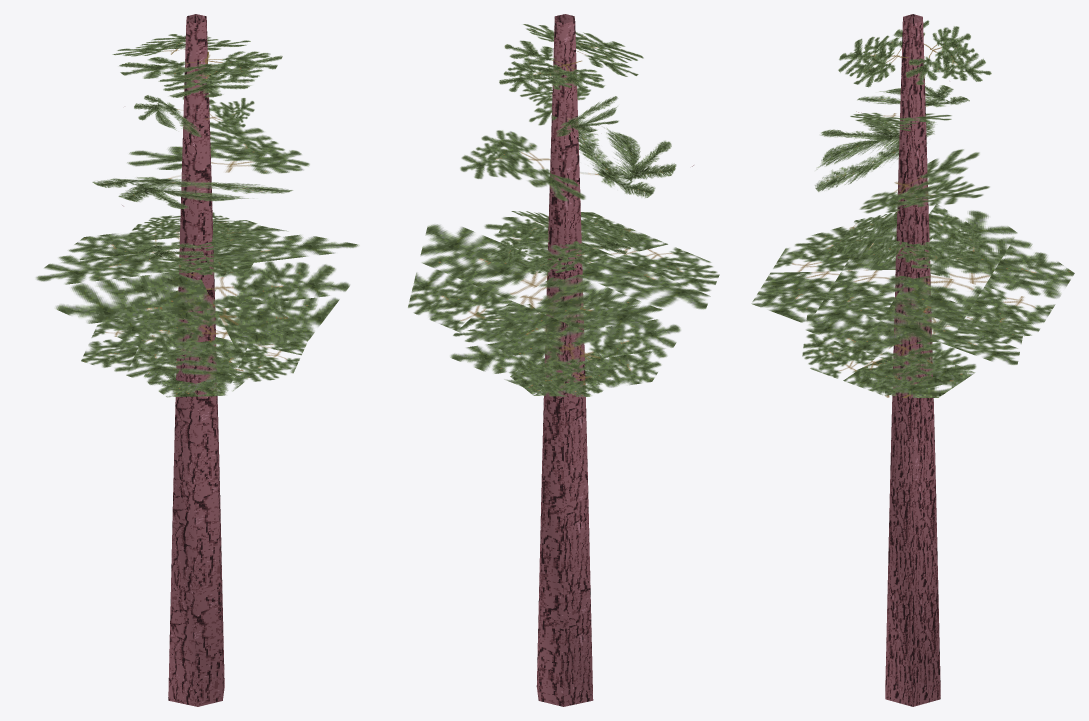
File: mnty2.glb
3 views of the same model, side by side, from view 1: azimuth 30°, elevation 25°; view 2: azimuth 150°, elevation 25°; view 3: azimuth 270°, elevation 25° (orthographic).
Visible parts, largest first — view 1: mnty2; view 2: mnty2; view 3: mnty2.
Boxes of the visible parts, x1=… form: mnty2: x1=36, y1=14, x2=359, y2=706; mnty2: x1=408, y1=14, x2=719, y2=706; mnty2: x1=751, y1=14, x2=1074, y2=706.
Size of the model in its own units: 11.22 by 22.87 by 9.95.
Materials: 1 (1 with a texture image).
